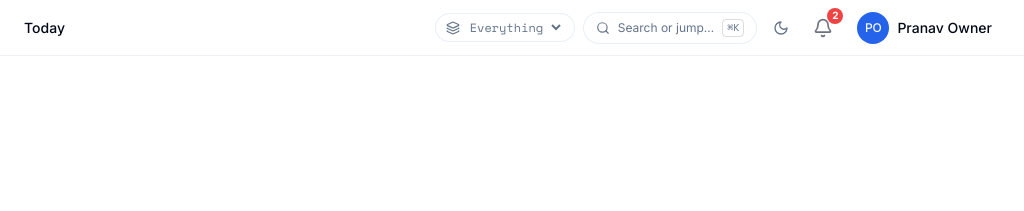
Scenario: TopBar stacking › opens the notification panel inside the bar
The width and height of the screenshot is (1024, 211).
Step 1. Click the button named "Notifications" → (823, 28), box [805,10,841,46]
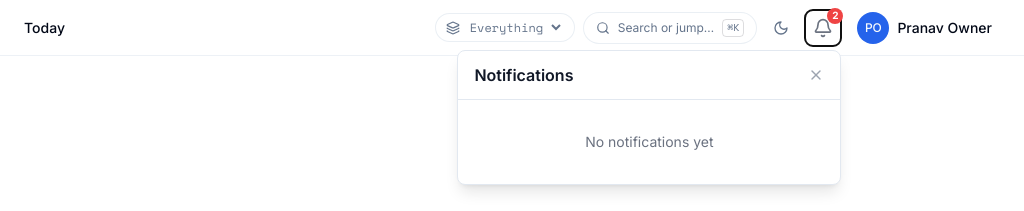
Expected: the element with test id "notification-panel" shows "No notifications yet", [585,132,714,150]
